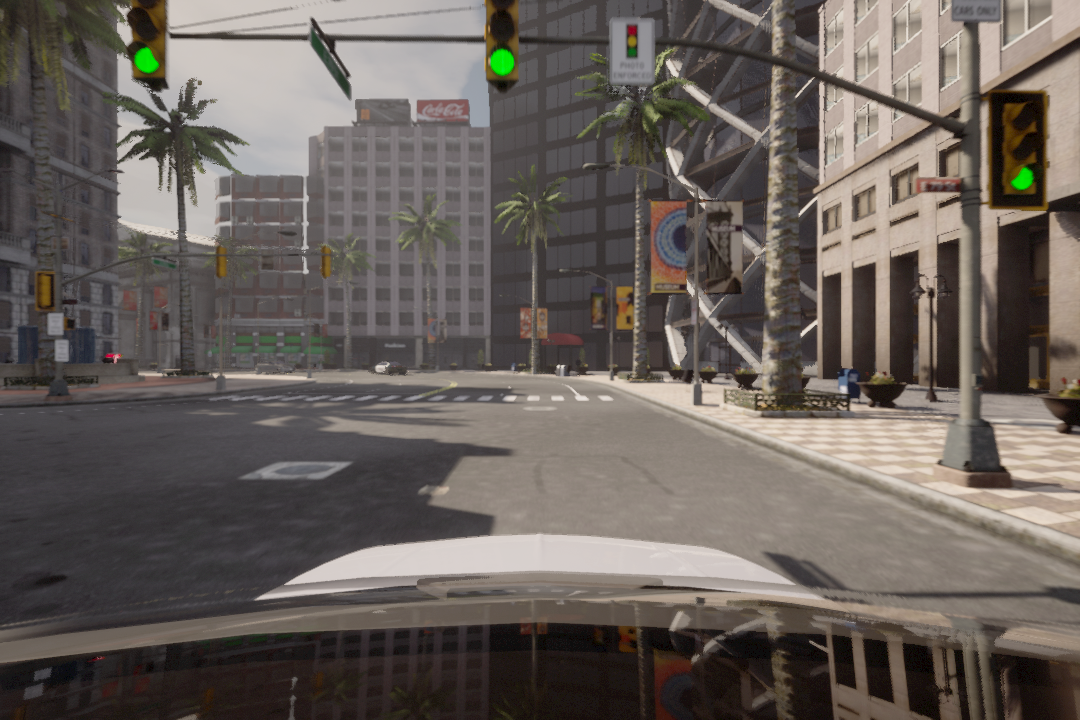TrafficLight: (998, 92, 1045, 211), (482, 3, 524, 85), (127, 1, 168, 82)
walkside: (199, 394, 629, 403)
